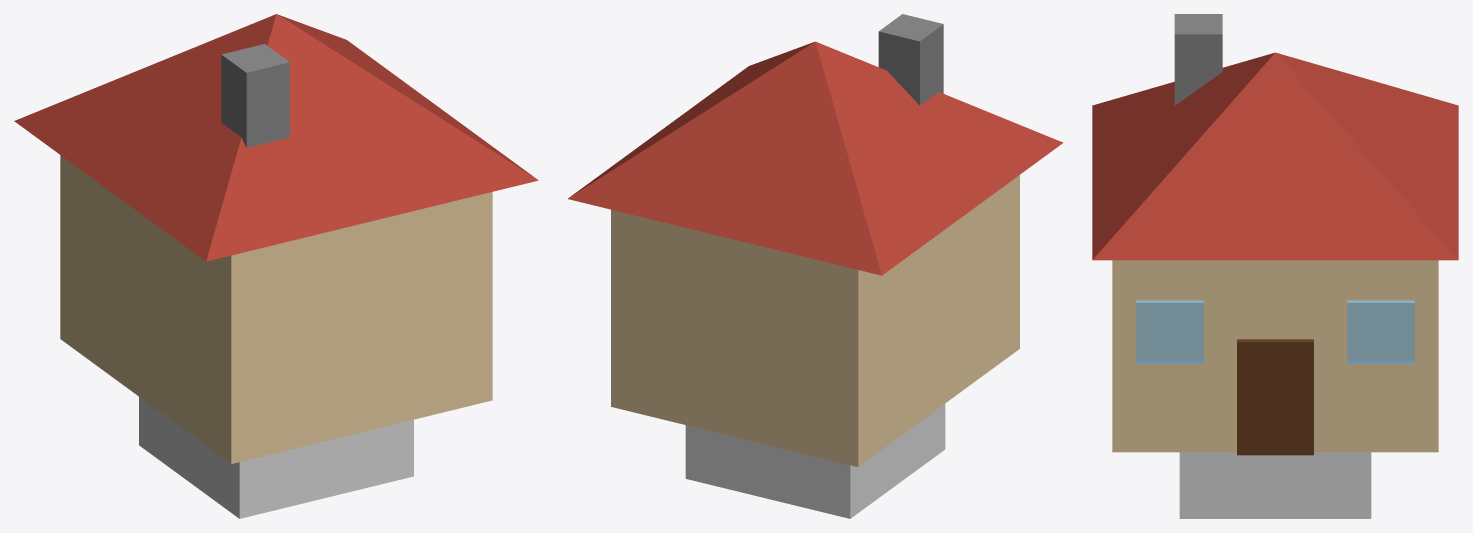
File: House.fbx
3 renders of one model, left to right at view 1: azimuth 30°, elevation 25°; view 2: azimuth 150°, elevation 25°; view 3: azimuth 270°, elevation 25°, orthographic. The views are drawn at different scales.
Parts seen in each view (by area): view 1: Rumah, Cube; view 2: Rumah, Cube; view 3: Rumah, Cube.
Part boxes in pixels (x1,y1,x2,y2): Rumah: (14, 14, 538, 463); Cube: (139, 397, 413, 518); Rumah: (568, 14, 1063, 466); Cube: (685, 404, 945, 518); Rumah: (1092, 14, 1458, 455); Cube: (1179, 452, 1371, 518).
Size of the model in its own units: 382 by 490 by 382.
